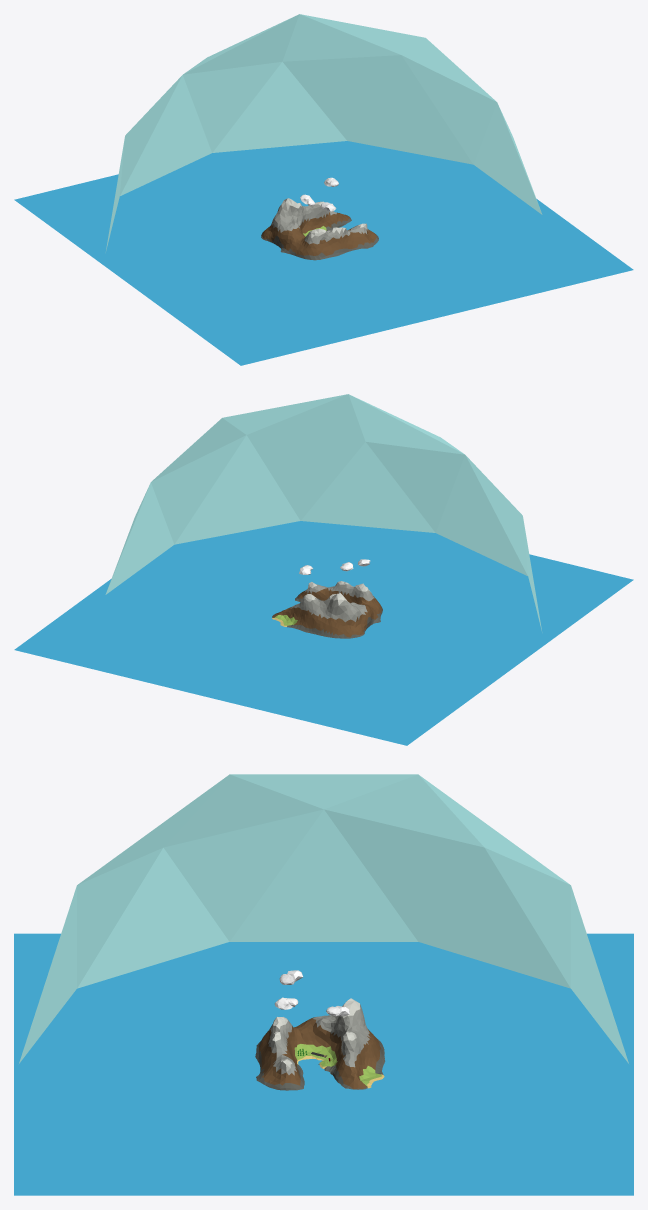
The model's file is island.glb.
3 renders of one model, top to bottom at view 1: azimuth 30°, elevation 25°; view 2: azimuth 150°, elevation 25°; view 3: azimuth 270°, elevation 25°, orthographic. The views are drawn at different scales.
Visible parts, largest first — view 1: Water, Skybox, Island; view 2: Water, Skybox, Island; view 3: Water, Skybox, Island.
Boxes of the visible parts, x1,y1,x2,y2 form: Water: (14, 141, 633, 365); Skybox: (105, 14, 542, 252); Island: (261, 198, 378, 260); Water: (14, 521, 633, 745); Skybox: (105, 394, 542, 632); Island: (272, 581, 382, 638); Water: (14, 933, 633, 1195); Skybox: (19, 774, 628, 1063); Island: (255, 998, 385, 1090).
Bounding box in the file's own units: 80 × 42.11 × 80.
